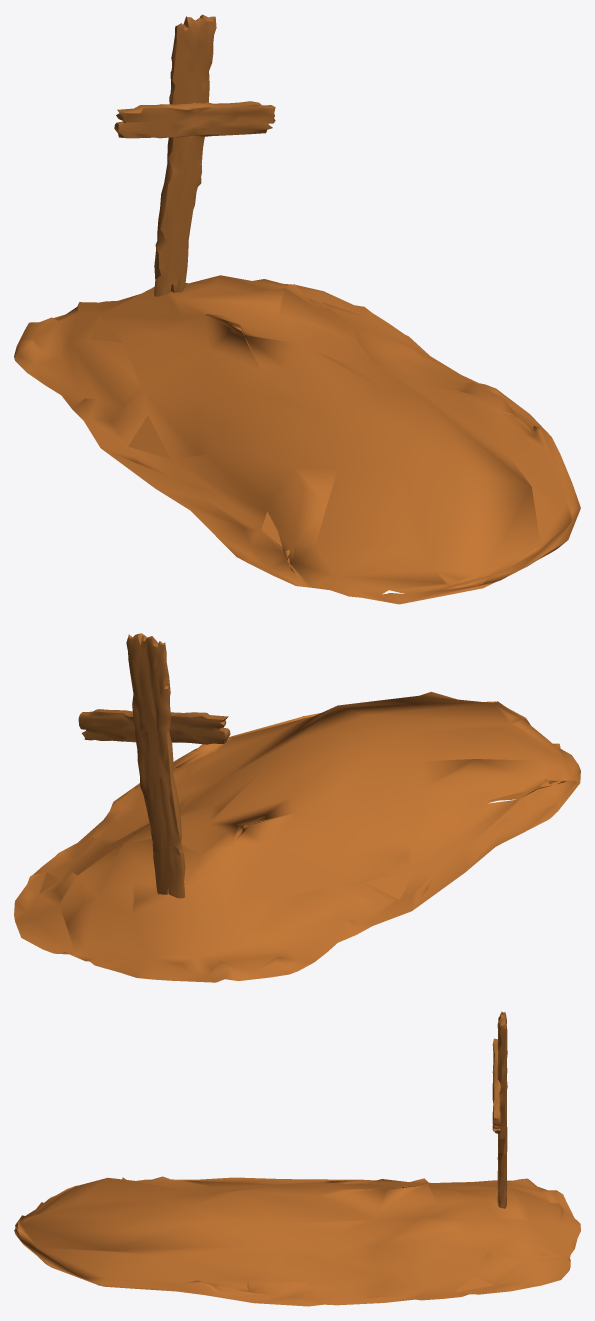
File: grave01.fbx
3 renders of one model, top to bottom at view 1: azimuth 30°, elevation 25°; view 2: azimuth 150°, elevation 25°; view 3: azimuth 270°, elevation 25°, orthographic. The views are drawn at different scales.
Parts seen in each view (by area): view 1: SubMesh_0.002, SubMesh_0; view 2: SubMesh_0.002, SubMesh_0; view 3: SubMesh_0.002, SubMesh_0.
Boxes of the visible parts, x1,y1,x2,y2 form: SubMesh_0.002: [14, 275, 580, 604]; SubMesh_0: [114, 14, 275, 296]; SubMesh_0.002: [14, 691, 580, 982]; SubMesh_0: [78, 633, 230, 898]; SubMesh_0.002: [14, 1176, 580, 1306]; SubMesh_0: [492, 1011, 507, 1208].
Size of the model in its own units: 142 by 122 by 263.
